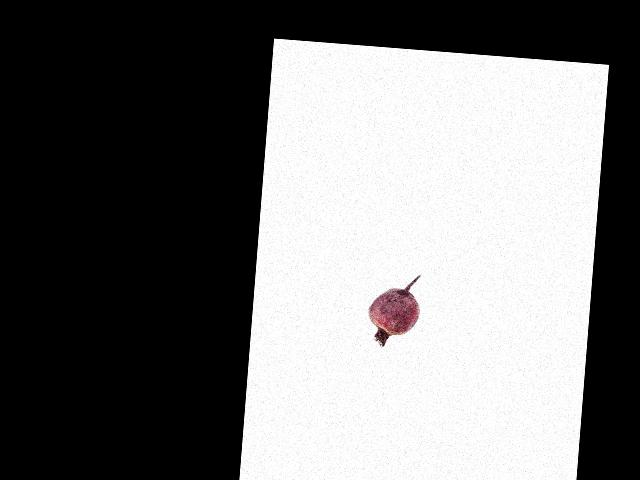beet: (366, 272, 422, 349)
